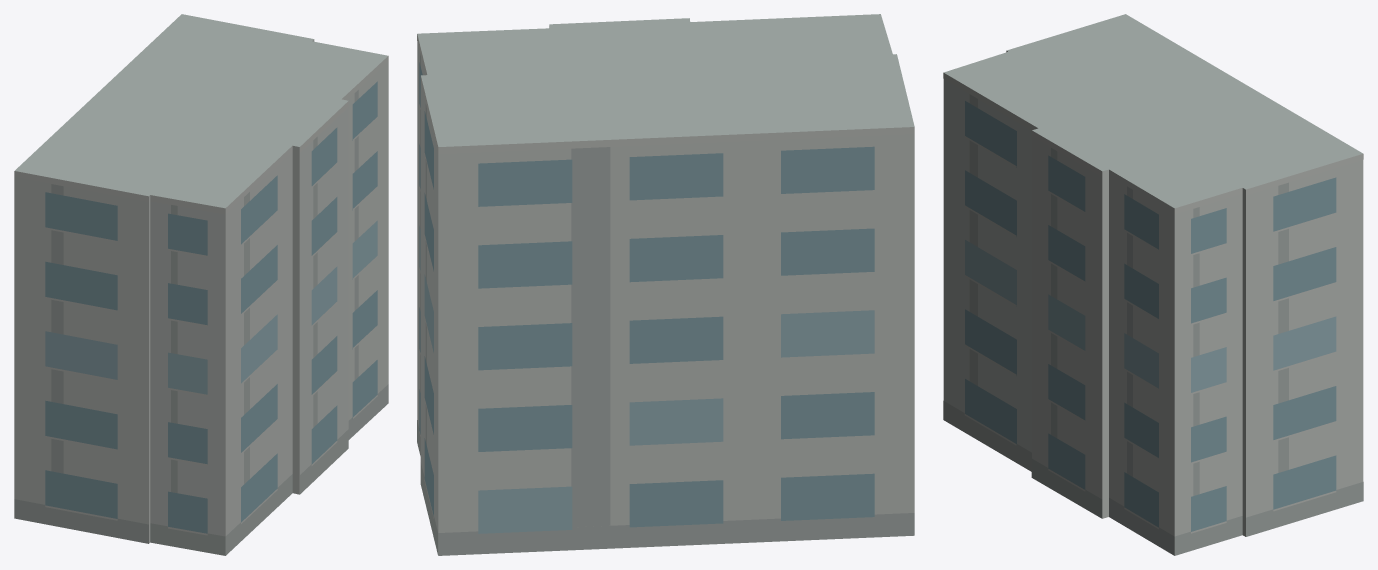
The model's file is survey-upis-32784977.glb.
The picture shows the model from 3 angles, left to right: view 1: azimuth 30°, elevation 25°; view 2: azimuth 150°, elevation 25°; view 3: azimuth 270°, elevation 25°; orthographic projection. The views are drawn at different scales.
Parts seen in each view (by area): view 1: survey-upis-32784977.tmp; view 2: survey-upis-32784977.tmp; view 3: survey-upis-32784977.tmp.
Part boxes in pixels (bbox=[...]): survey-upis-32784977.tmp: bbox=[14, 14, 388, 555]; survey-upis-32784977.tmp: bbox=[417, 14, 914, 555]; survey-upis-32784977.tmp: bbox=[943, 14, 1363, 555].
Size of the model in its own units: 16.69 by 13.9 by 15.23.
